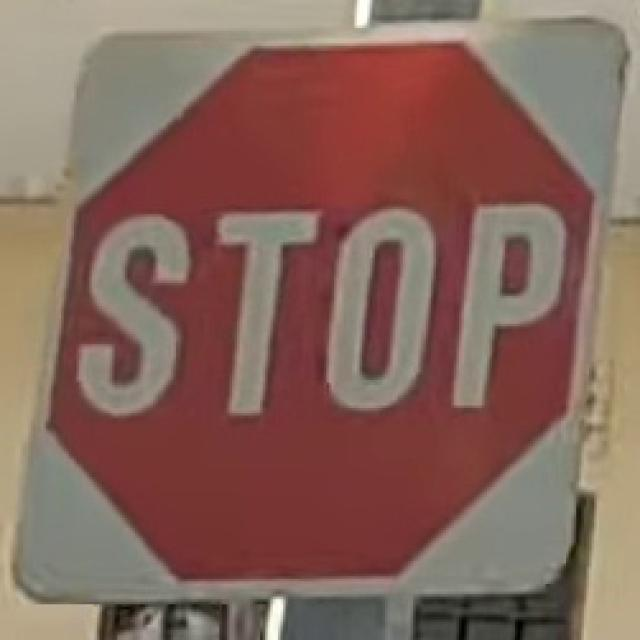mandatorystop_sign: (16, 18, 623, 602)
